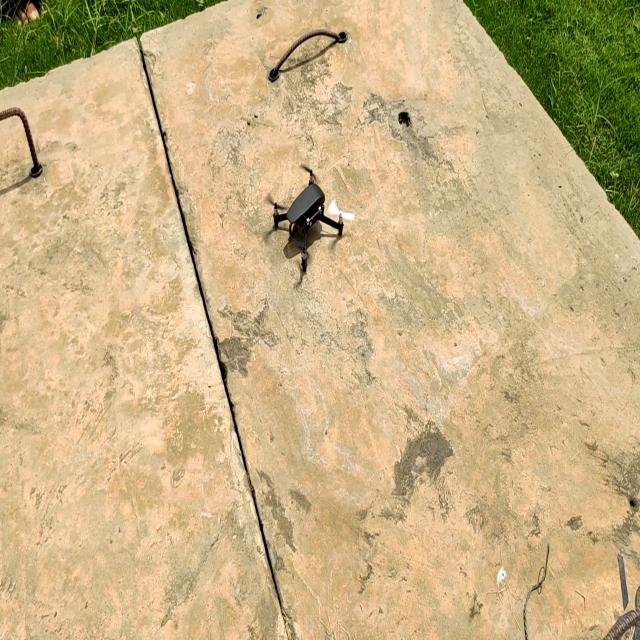drone: (260, 152, 360, 286)
